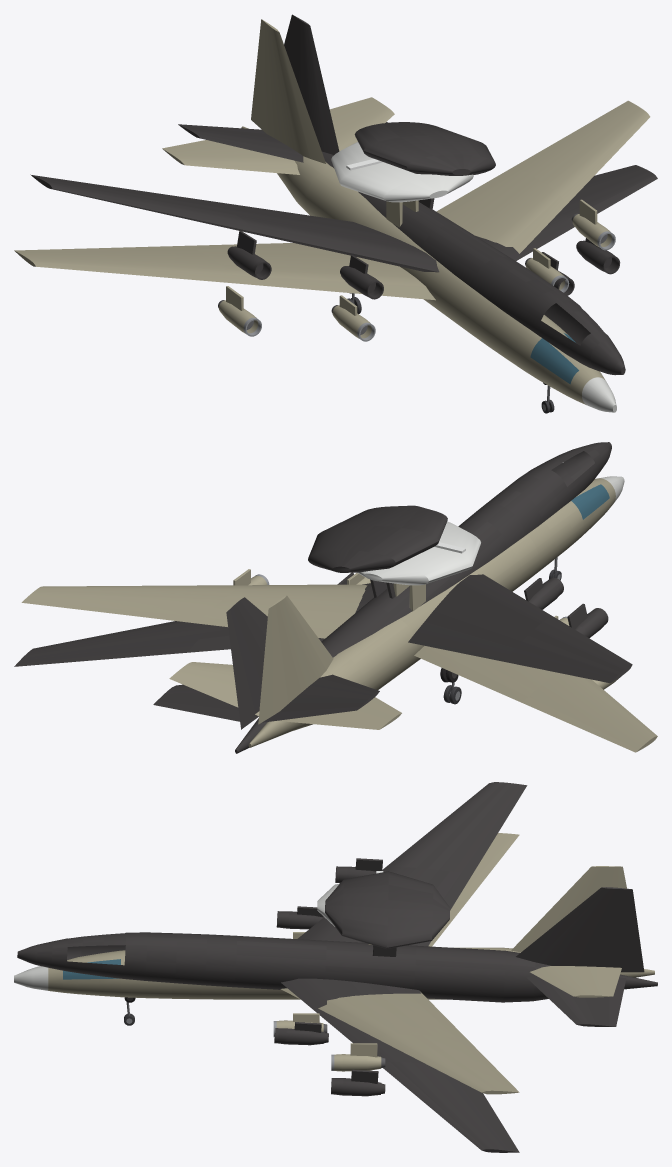
File: aewc__e_3g_sentry.glb
3 views of the same model, one above another, from view 1: azimuth 30°, elevation 25°; view 2: azimuth 150°, elevation 25°; view 3: azimuth 270°, elevation 25° (orthographic). The views are drawn at different scales.
Parts seen in each view (by area): view 1: Fuselage_Mesh, Wreck, Radar_Mesh; view 2: Wreck, Fuselage_Mesh, Radar_Mesh; view 3: Wreck, Fuselage_Mesh.
Boxes of the visible parts, x1=… form: Fuselage_Mesh: x1=14, y1=19, x2=650, y2=413; Wreck: x1=30, y1=14, x2=657, y2=384; Radar_Mesh: x1=331, y1=142, x2=473, y2=202; Wreck: x1=14, y1=442, x2=632, y2=753; Fuselage_Mesh: x1=21, y1=476, x2=657, y2=752; Radar_Mesh: x1=357, y1=521, x2=480, y2=585; Wreck: x1=17, y1=782, x2=657, y2=1152; Fuselage_Mesh: x1=14, y1=833, x2=654, y2=1094.
Size of what is drawn, in the model's own units: 45.01 by 12.7 by 46.89.
